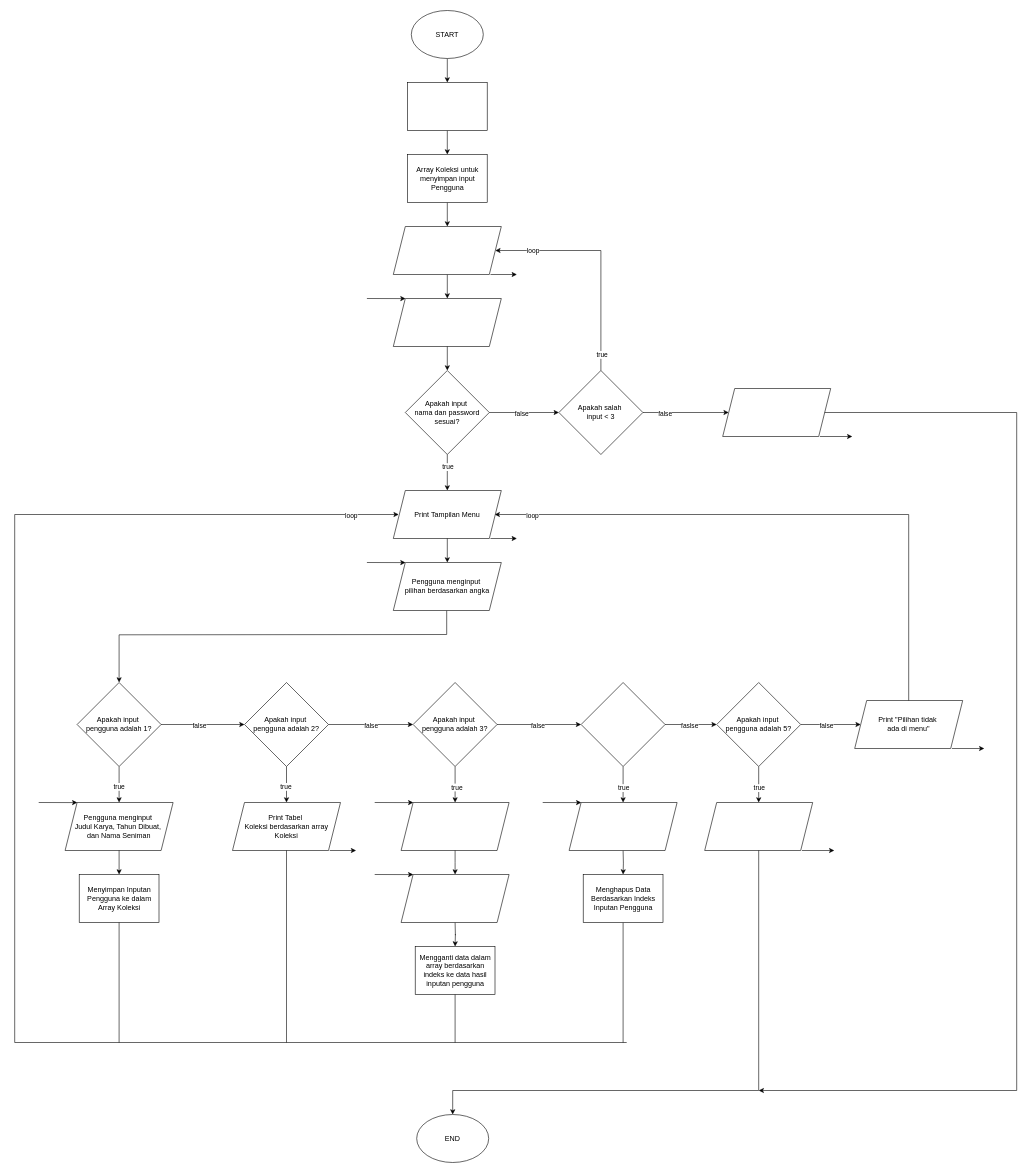
Image size: 1032x1173. Some labels were removed from this diagram. Each missing label, with the box of its shape:
Apakah input pengguna adalah 4?: (580, 682, 665, 766)
Pengguna Menginput Judul Karya Baru, Tahun Dibuat, Serta Nama Seniman yang Baru: (400, 874, 509, 922)
Pengguna menginput nama dan password: (393, 298, 501, 346)
Pengguna menginput Nomor urut berapa Koleksi yang ingin dihapus: (568, 802, 677, 850)
Pengguna menginput Nomor urut berapa Koleksi yang ingin diperbarui: (400, 802, 509, 850)
Print "Anda Telah Salah 3 kali": (722, 388, 831, 436)
Print "Masukkan Nama" dan "Masukkan Password": (393, 226, 501, 274)
Print "Terima kasih telah berkunjung": (704, 802, 813, 850)
Variabel Nama = "Naufal", Password = "034": (407, 82, 487, 130)
